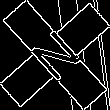N_SE: (23, 23, 87, 87)
